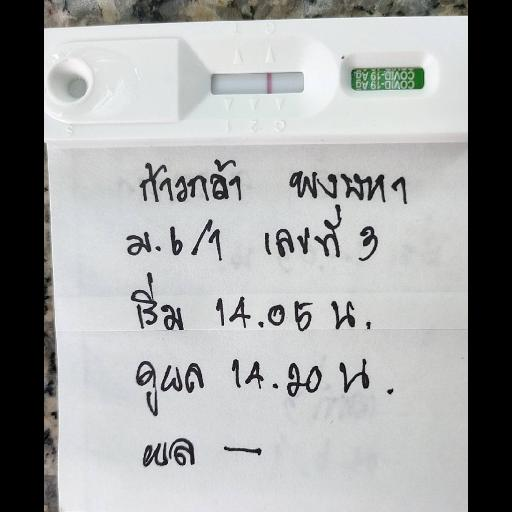Neg: (46, 24, 464, 142)
